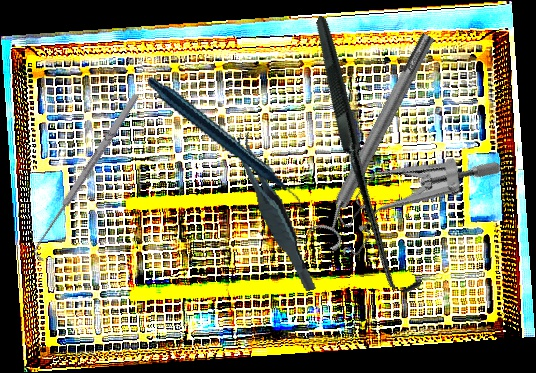Fixation Ring: (302, 27, 448, 253)
Handpiece: (146, 47, 304, 244)
Hook Surgical: (228, 15, 506, 298), (26, 89, 148, 264)
Speculum: (318, 104, 505, 299)
Tissue Forceps: (233, 124, 317, 300)
